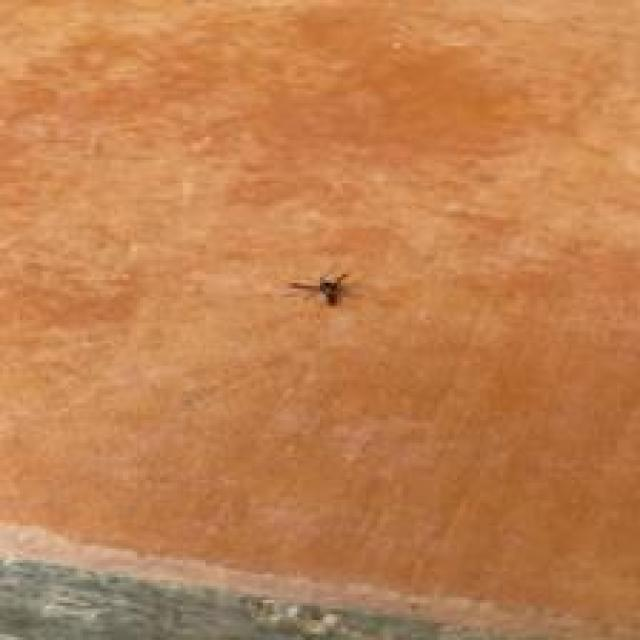Aedes albopictus: (288, 270, 352, 307)
